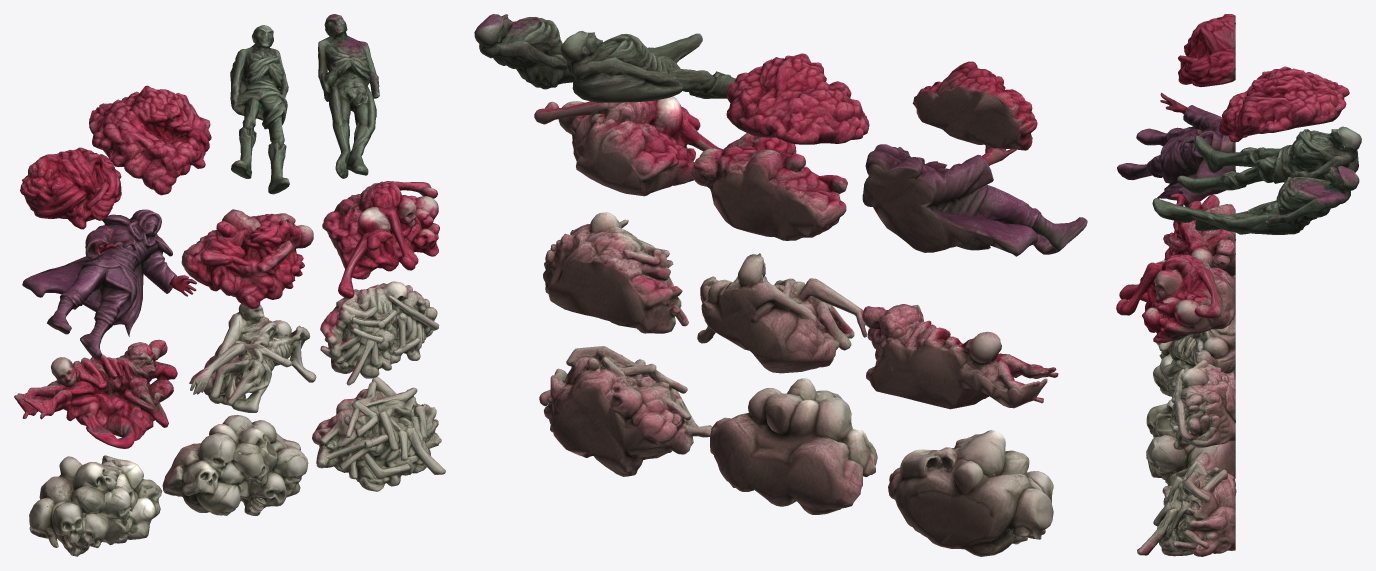
Rendered from corpse_assemblage.glb.
3 views of the same model, side by side, from view 1: azimuth 30°, elevation 25°; view 2: azimuth 150°, elevation 25°; view 3: azimuth 270°, elevation 25° (orthographic). The views are drawn at different scales.
Bounding box in the file's own units: 1.9 × 1.8 × 0.976.
1 material, 1 textured.
